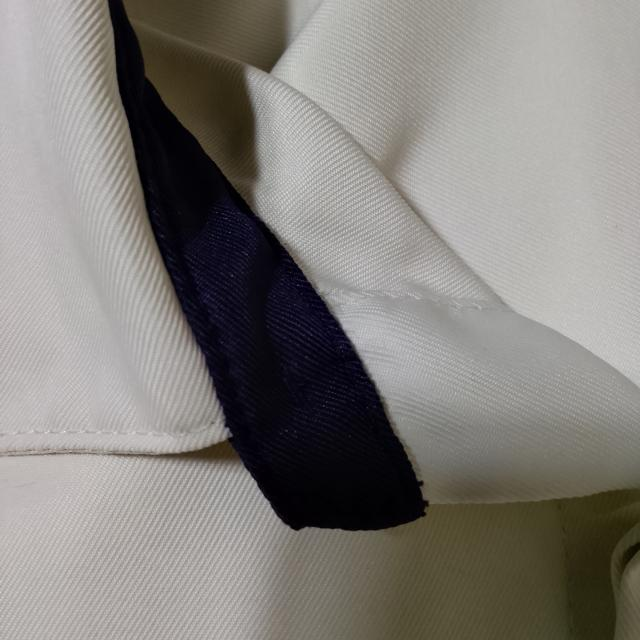education_male_uniform: (11, 2, 640, 640)
